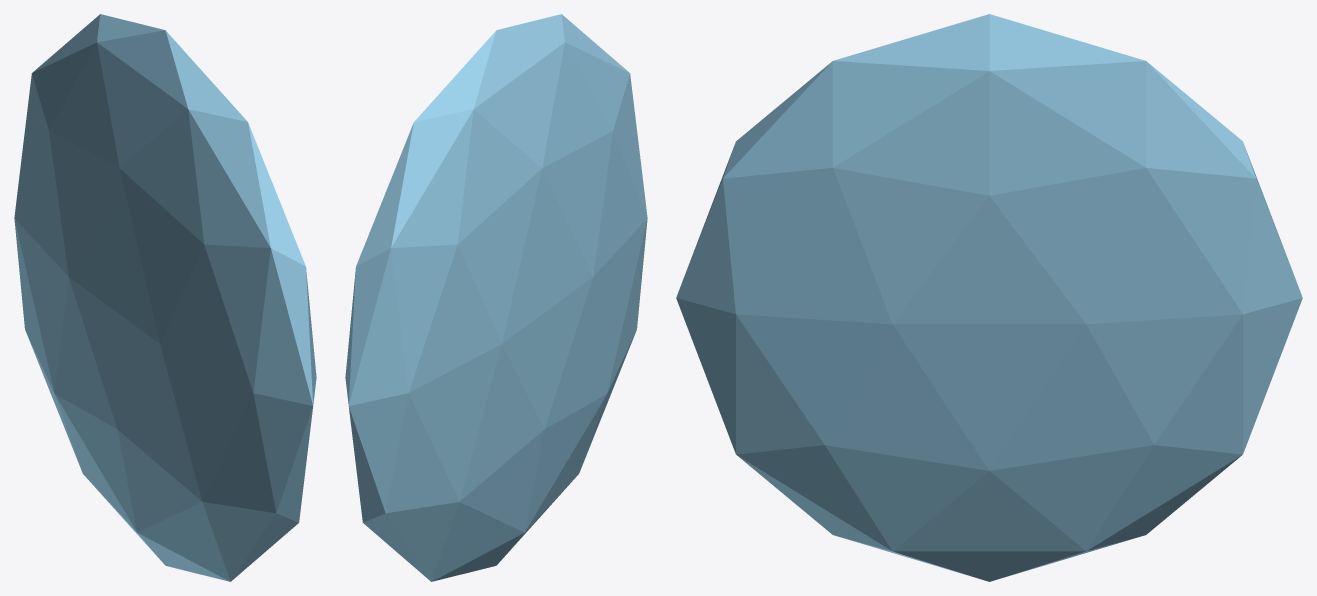
The model's file is lens01.fbx.
The picture shows the model from 3 angles, left to right: view 1: azimuth 30°, elevation 25°; view 2: azimuth 150°, elevation 25°; view 3: azimuth 270°, elevation 25°; orthographic projection. The views are drawn at different scales.
Visible parts, largest first — view 1: Lens01; view 2: Lens01; view 3: Lens01.
Part boxes in pixels (x1,y1,x2,y2): Lens01: [14, 14, 316, 581]; Lens01: [345, 14, 647, 581]; Lens01: [676, 14, 1302, 581].
Size of the model in its own units: 39.94 by 200 by 200.
